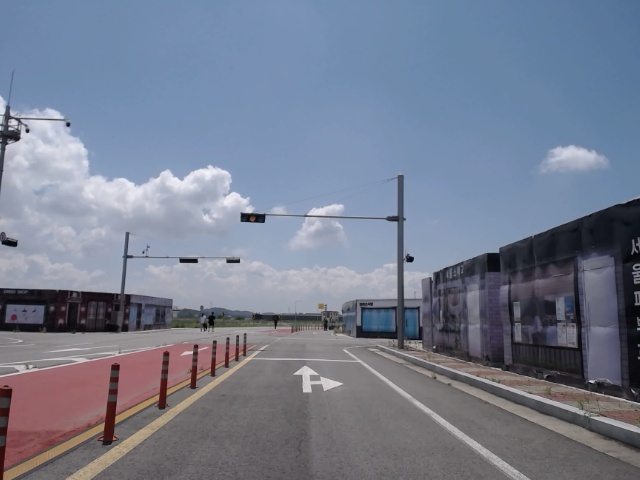orange_3: (240, 215, 266, 223)
